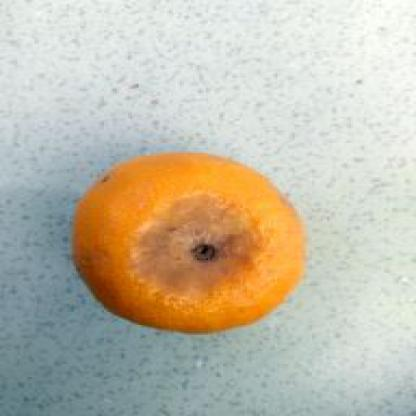orange_rotten: (67, 150, 306, 335)
